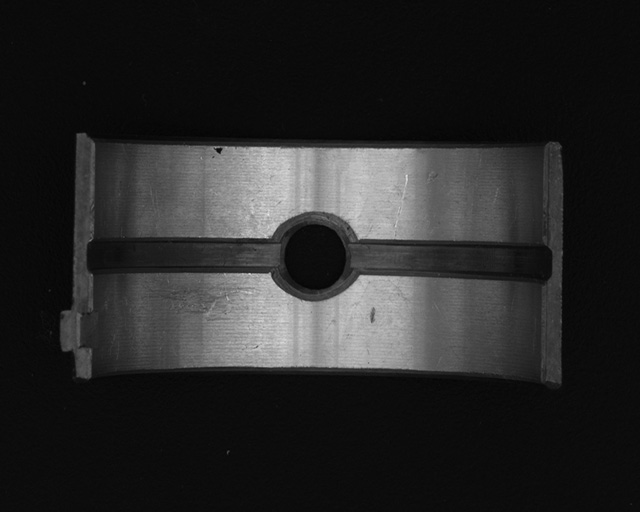blot: (213, 146, 223, 157)
bruise: (368, 306, 376, 324)
gap: (346, 240, 551, 284), (88, 237, 280, 276)
hole: (272, 213, 354, 296)
nick: (394, 174, 410, 239)
scratch: (141, 282, 260, 320)
